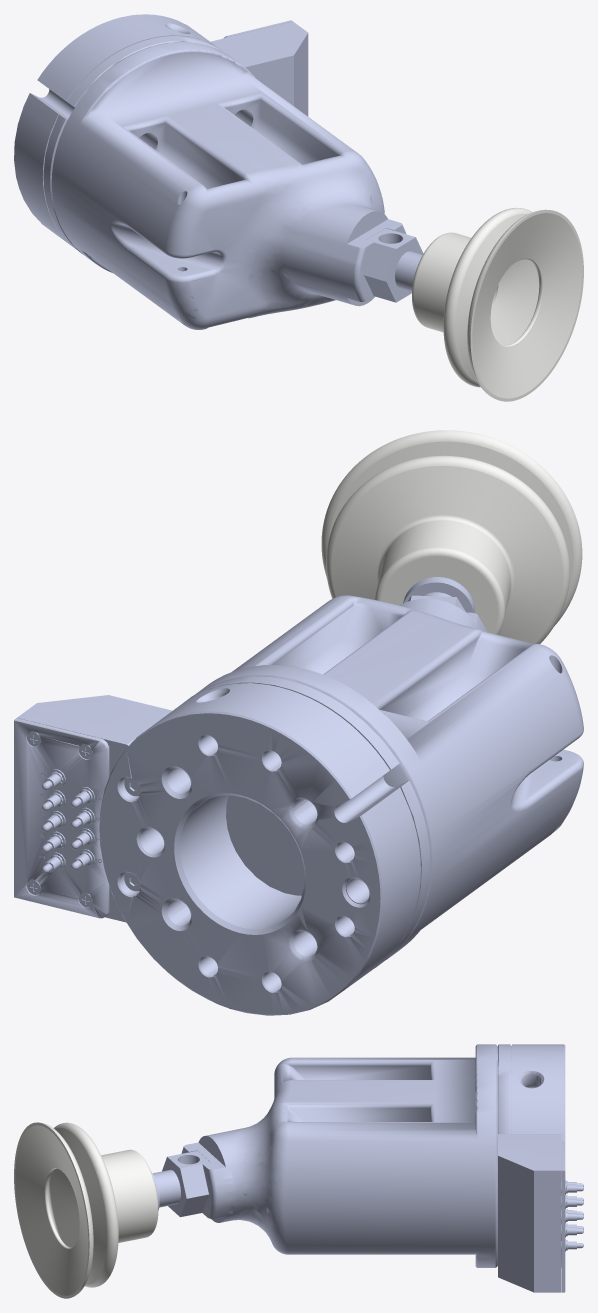
Rendered from bigcup_p0.glb.
The picture shows the model from 3 angles, top to bottom: view 1: azimuth 30°, elevation 25°; view 2: azimuth 150°, elevation 25°; view 3: azimuth 270°, elevation 25°; orthographic projection. The views are drawn at different scales.
Bounding box in the file's own units: 0.072 × 0.05 × 0.1273.
